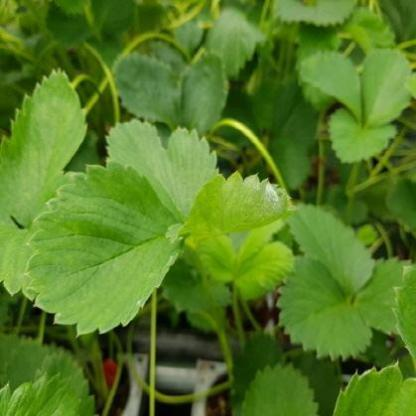Strawberry_Powdery_Mildew_Leaf: (184, 170, 300, 238)
